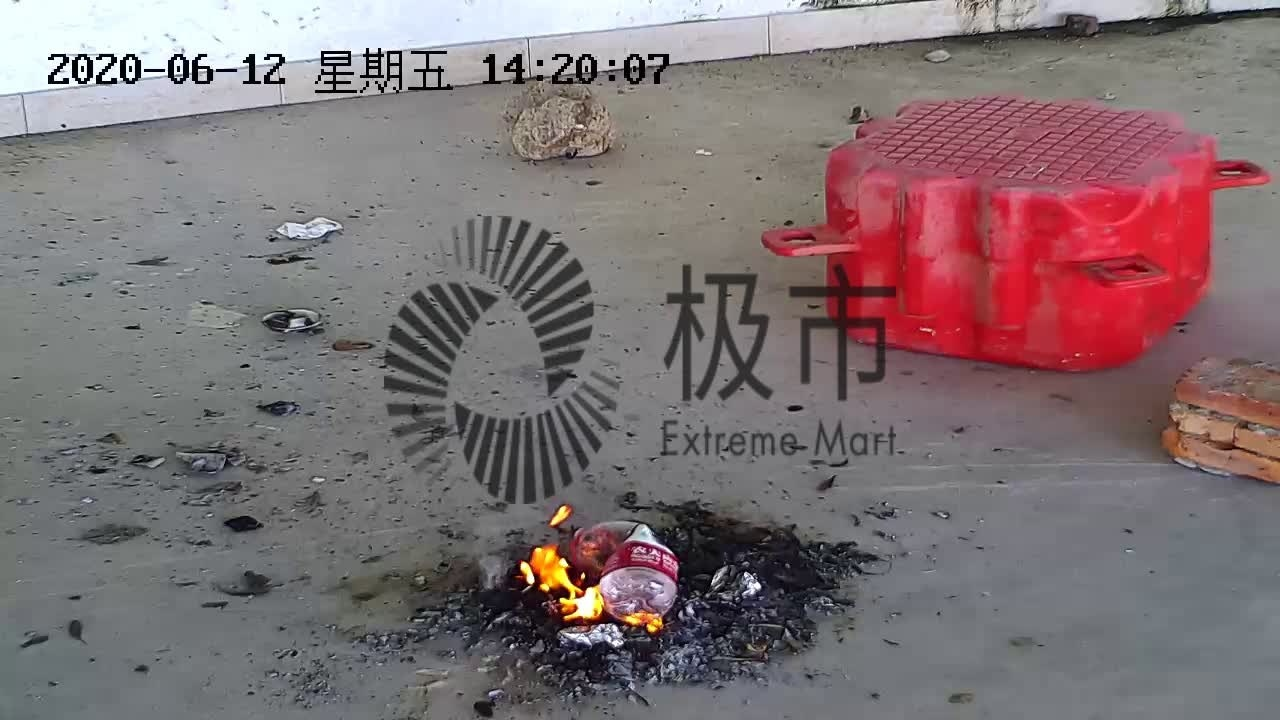fire: (513, 520, 668, 633), (513, 90, 621, 164)
